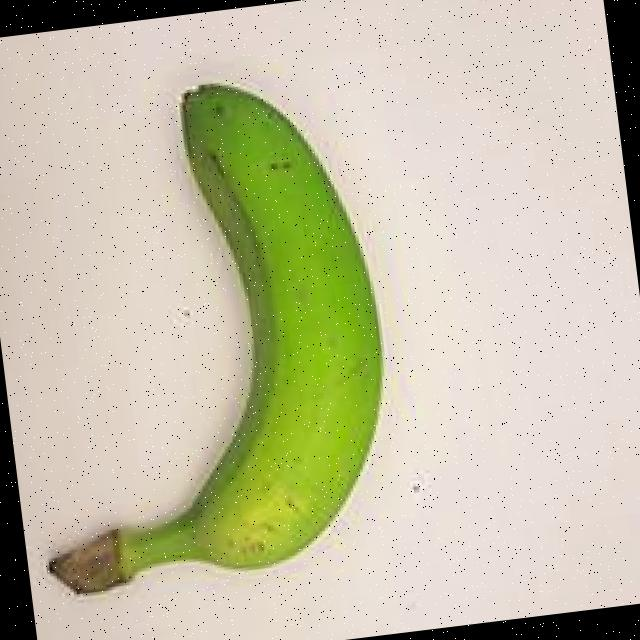Unripe: (0, 40, 439, 626)
